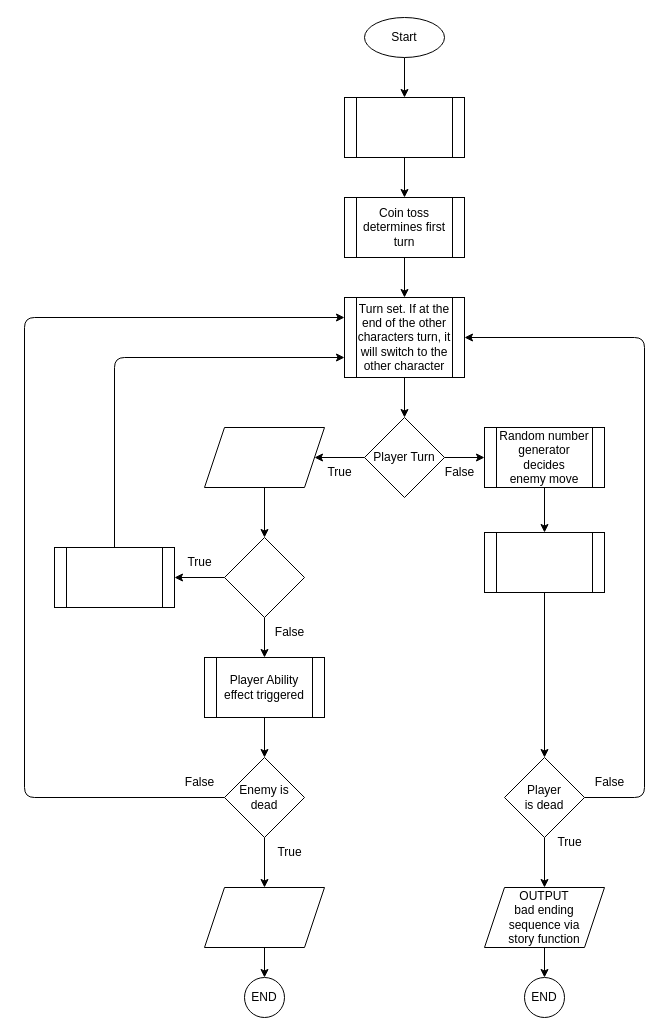
Image size: 670x1035. Some labels were removed from this diagram. Here are the shapes that lost their labels. From the top down, the centre of each, then its label:
(404,127): Battle subclass determines enemy difficulty
(264,457): OUTPUT player and enemy stats, and player options
(114,577): Player Item effect triggered
(264,577): Player Uses Item
(544,562): Enemy move effect triggered
(264,917): OUTPUT victory sequence via story function
